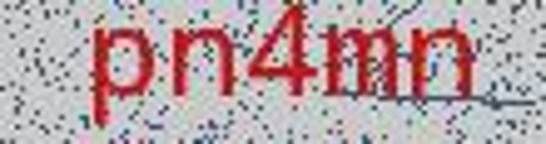4: (243, 1, 318, 108)
m: (321, 18, 405, 106)
n: (164, 19, 242, 107), (409, 20, 483, 107)
p: (78, 18, 159, 129)
